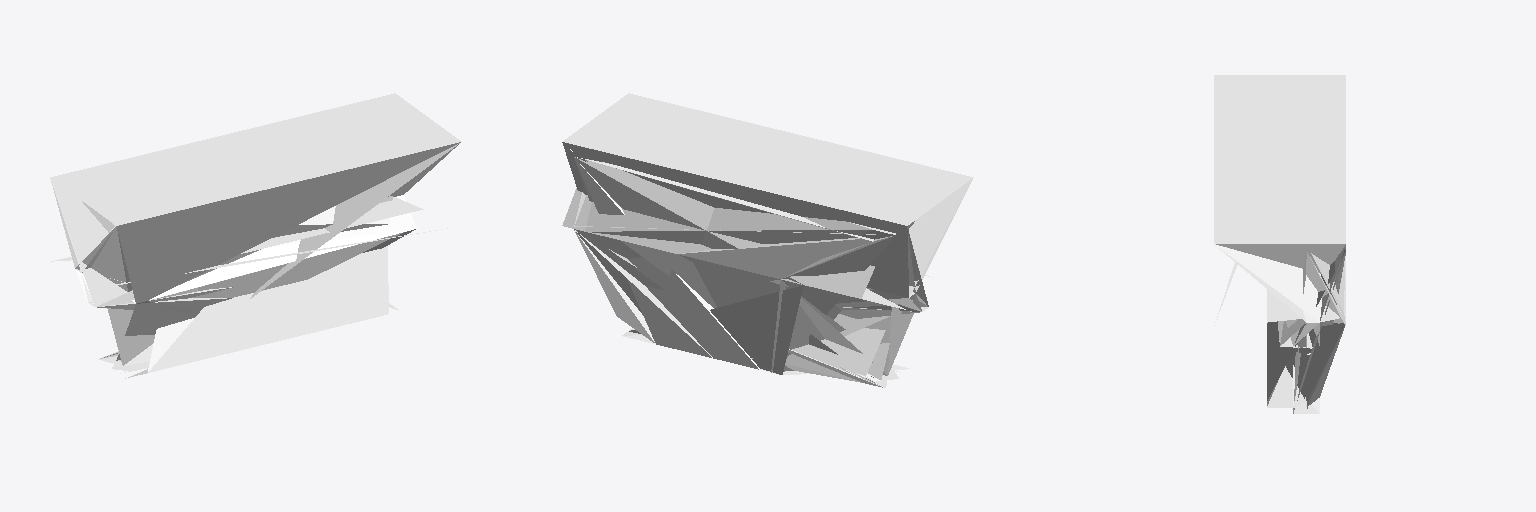
Rendered from pipe.obj.
3 views of the same model, side by side, from view 1: azimuth 30°, elevation 25°; view 2: azimuth 150°, elevation 25°; view 3: azimuth 270°, elevation 25° (orthographic).
Bounding box in the file's own units: 30 × 16 × 10.